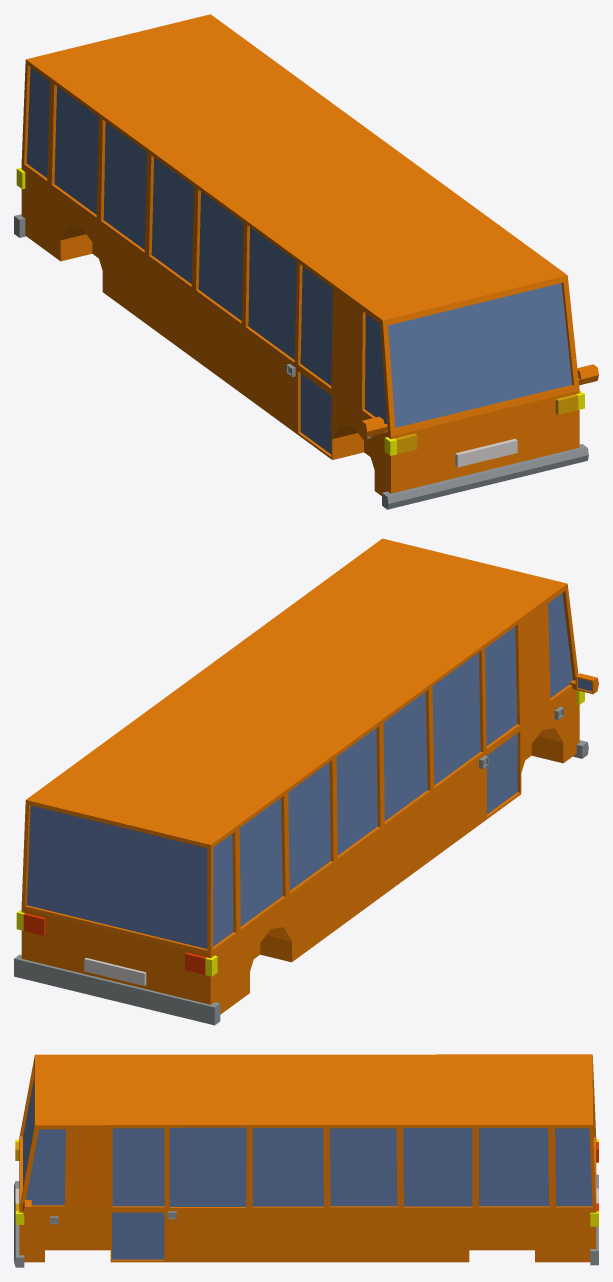
Rendered from Car_13.fbx.
3 renders of one model, top to bottom at view 1: azimuth 30°, elevation 25°; view 2: azimuth 150°, elevation 25°; view 3: azimuth 270°, elevation 25°, orthographic. The views are drawn at different scales.
Visible parts, largest first — view 1: Car_13; view 2: Car_13; view 3: Car_13.
Part boxes in pixels (<box>): Car_13: <box>14,14,598,509</box>; Car_13: <box>14,538,598,1025</box>; Car_13: <box>14,1054,598,1267</box>.
Size of the model in its own units: 4.85 by 3.56 by 13.54.
